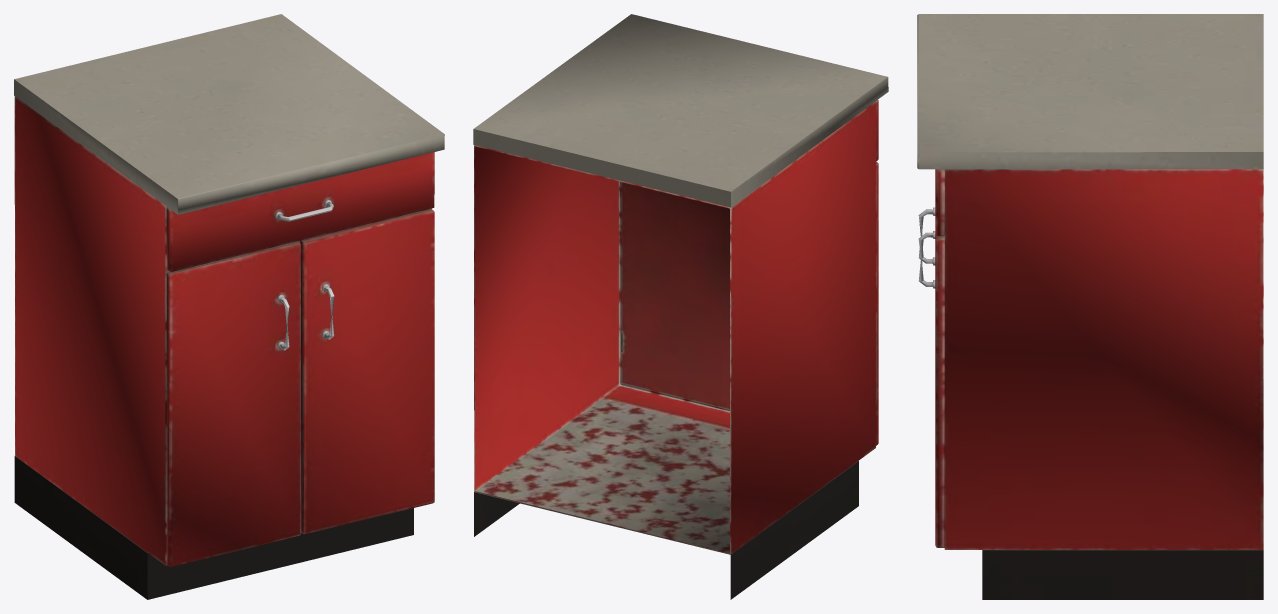
Rendered from kit_base_60_red-low.glb.
3 views of the same model, side by side, from view 1: azimuth 30°, elevation 25°; view 2: azimuth 150°, elevation 25°; view 3: azimuth 270°, elevation 25° (orthographic). The views are drawn at different scales.
Parts seen in each view (by area): view 1: kit_base_60_red-low; view 2: kit_base_60_red-low; view 3: kit_base_60_red-low.
Boxes of the visible parts, <box> form: kit_base_60_red-low: <box>14,14,444,599</box>; kit_base_60_red-low: <box>473,14,888,599</box>; kit_base_60_red-low: <box>917,14,1263,599</box>.
Size of the model in its own units: 0.598 by 0.905 by 0.6343.
1 material, 1 textured.
